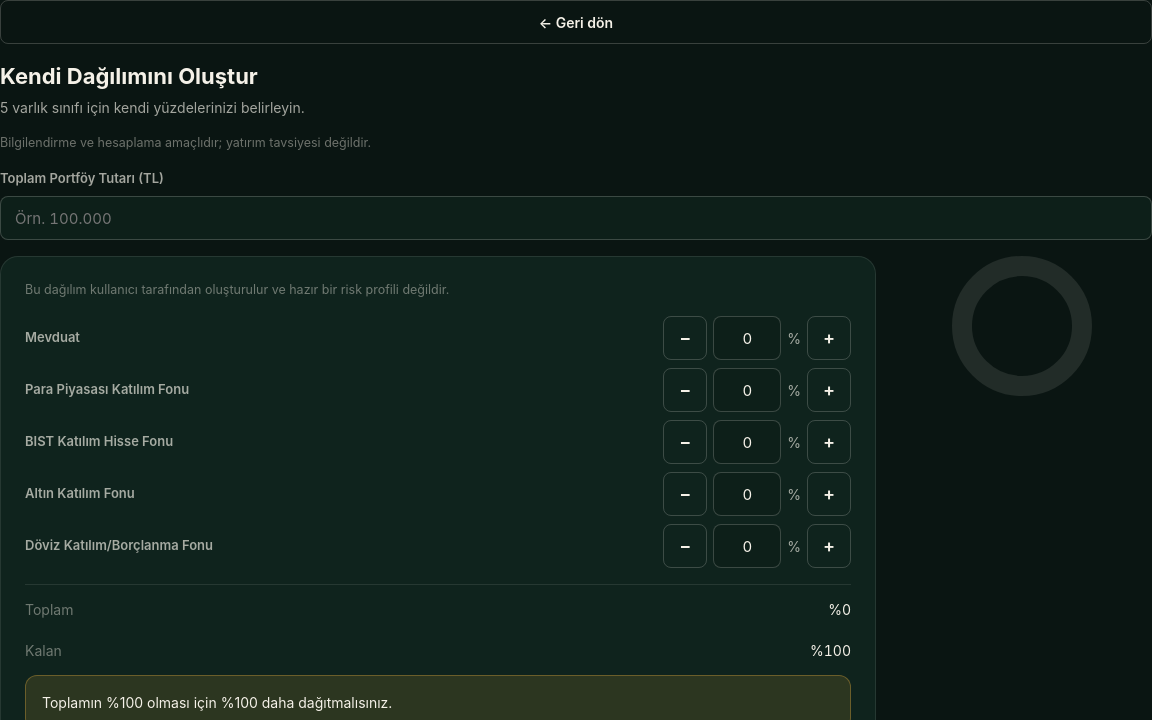
it: CustomAllocationPage — toplam kontrolü › 9a. %99 toplamda tamamlanmamış uyarısı gösterir ve hesapla butonunu devre dışı bırakır
Replace the text in the number field labelled "Mevduat" with "99" at (747, 338), box left=713, top=316, right=781, bottom=360
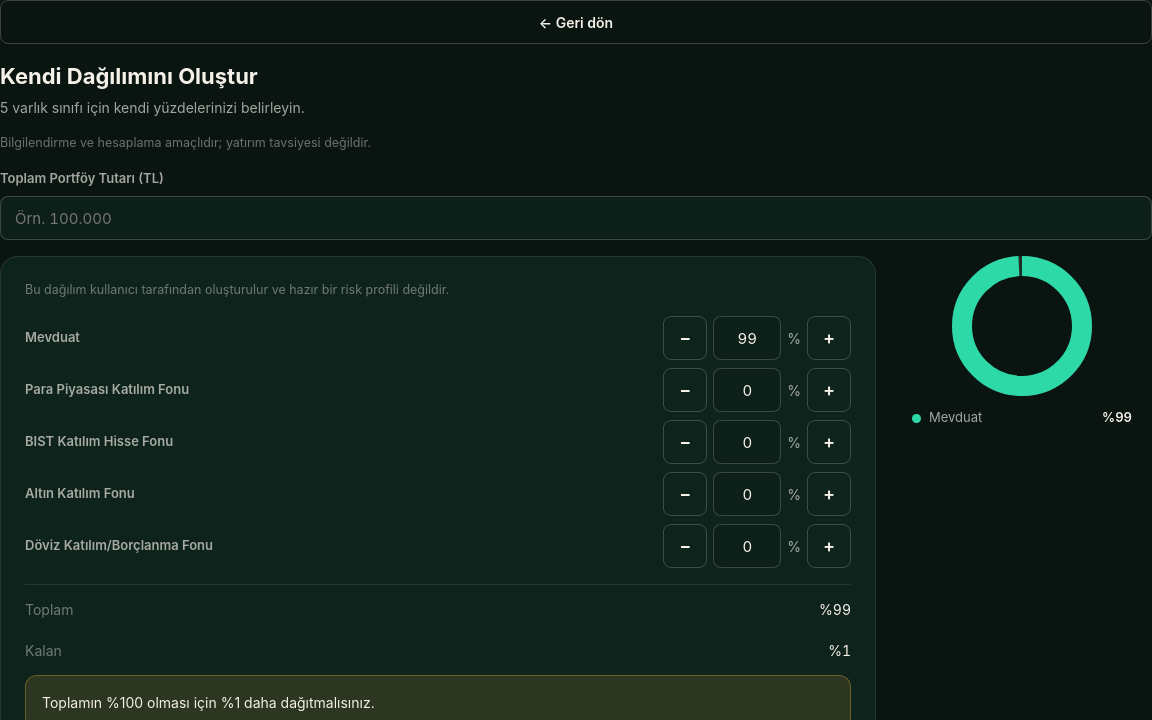
Type "1000000" into the field labelled "Toplam Portföy Tutarı (TL)" at (576, 218), box left=0, top=196, right=1151, bottom=240
(page scrolled)
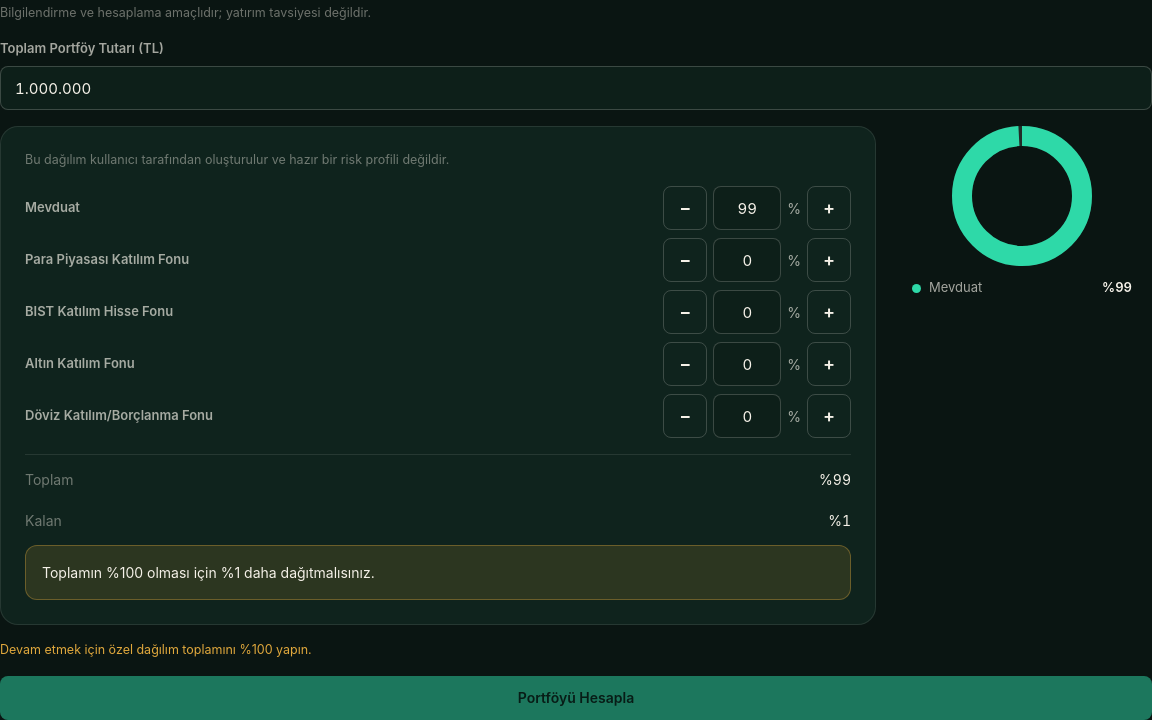
Expected: the button "Portföyü Hesapla" is disabled, left=0, top=676, right=1151, bottom=719
Expected: the text "Toplamın %100 olması için %1 daha dağıtmalısınız." is shown, left=25, top=545, right=851, bottom=600
Expected: the text "Devam etmek için özel dağılım toplamını %100 yapın." is shown, left=0, top=642, right=312, bottom=657
